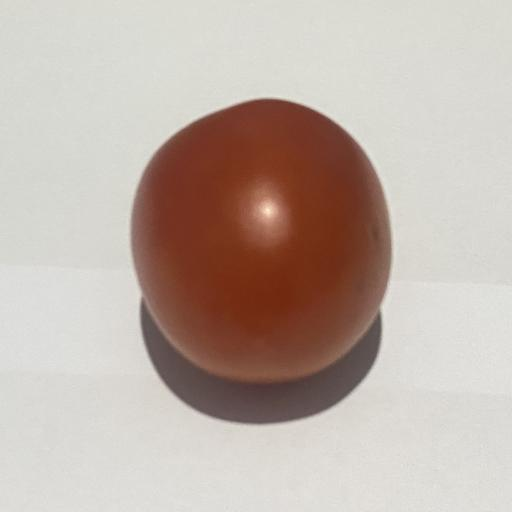ripe: (132, 100, 391, 382)
